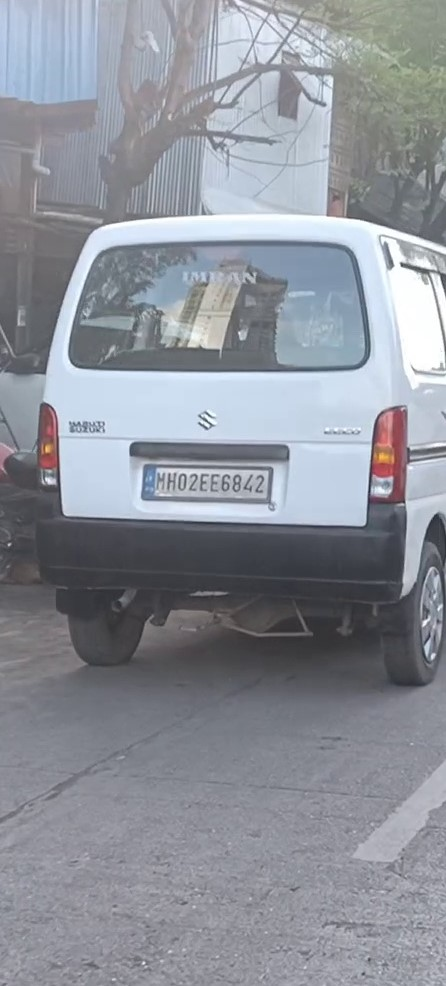MH02EE6842: (141, 462, 271, 503)
